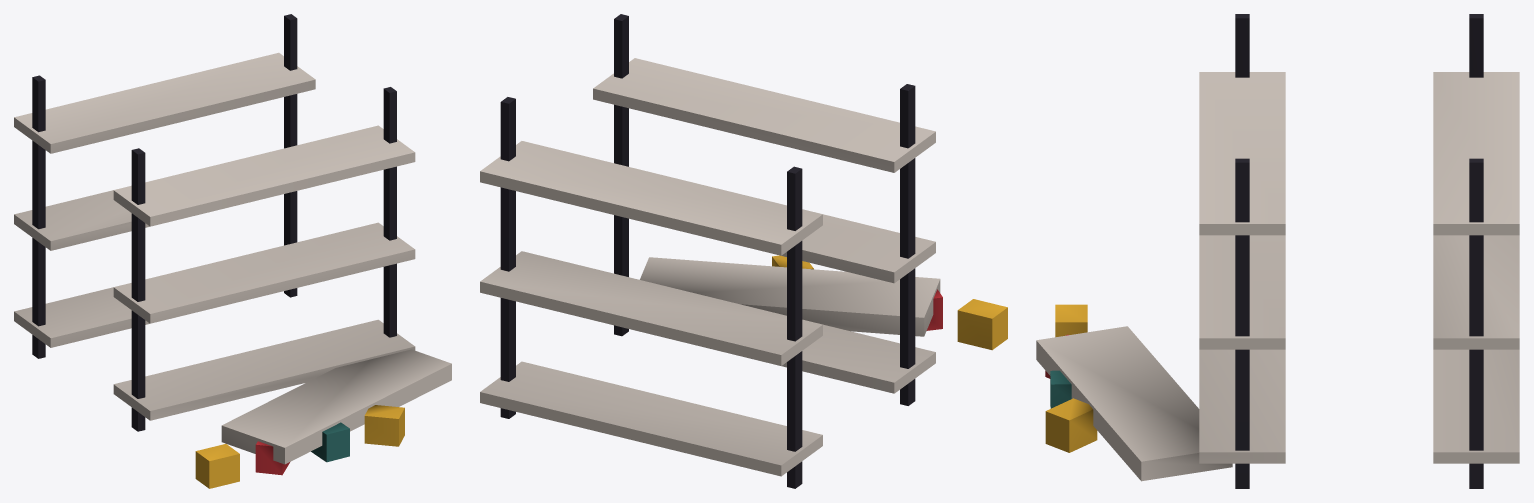
Rendered from decay.looted-store.lod2.glb.
3 views of the same model, side by side, from view 1: azimuth 30°, elevation 25°; view 2: azimuth 150°, elevation 25°; view 3: azimuth 270°, elevation 25° (orthographic). The views are drawn at different scales.
Parts seen in each view (by area): view 1: body; view 2: body; view 3: body.
Part boxes in pixels (x1=…): body: x1=14, y1=14, x2=451, y2=488; body: x1=480, y1=14, x2=1007, y2=488; body: x1=1036, y1=14, x2=1519, y2=488.
Bounding box in the file's own units: 2.11 × 2 × 2.69.
